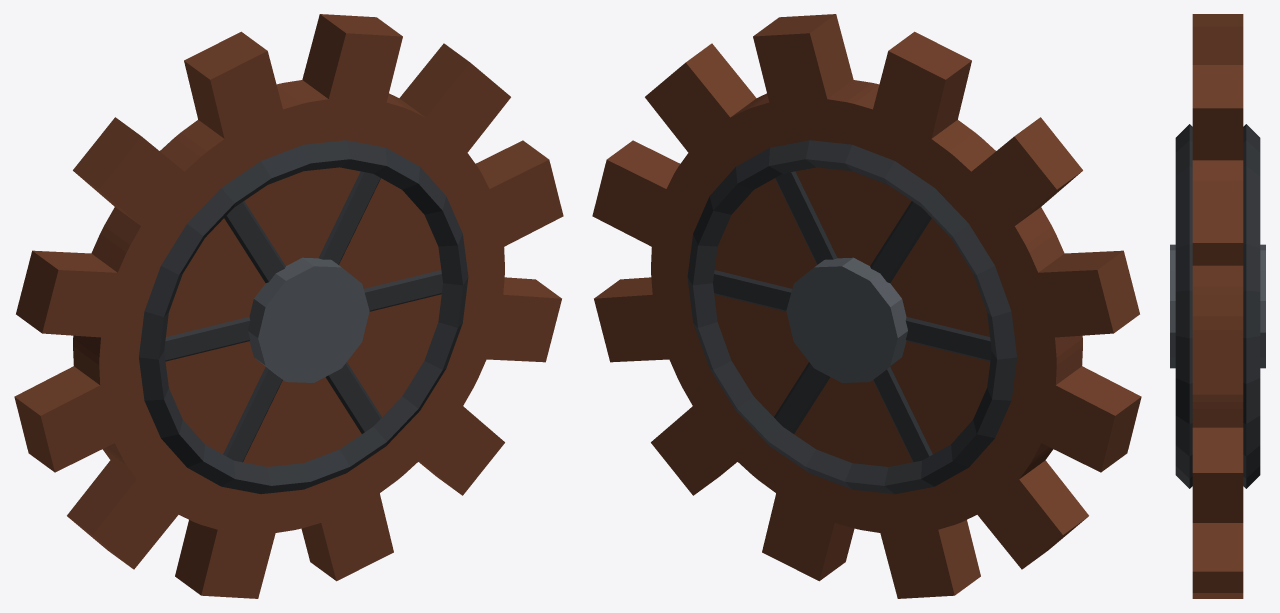
The model's file is gear.glb.
The picture shows the model from 3 angles, left to right: view 1: azimuth 30°, elevation 25°; view 2: azimuth 150°, elevation 25°; view 3: azimuth 270°, elevation 25°; orthographic projection. The views are drawn at different scales.
Visible parts, largest first — view 1: Gear; view 2: Gear; view 3: Gear.
Boxes of the visible parts, left/top/right/bottom form: Gear: left=14, top=14, right=563, bottom=598; Gear: left=592, top=14, right=1141, bottom=598; Gear: left=1170, top=14, right=1265, bottom=598.
Size of the model in its own units: 1.03 by 1.03 by 0.17.
